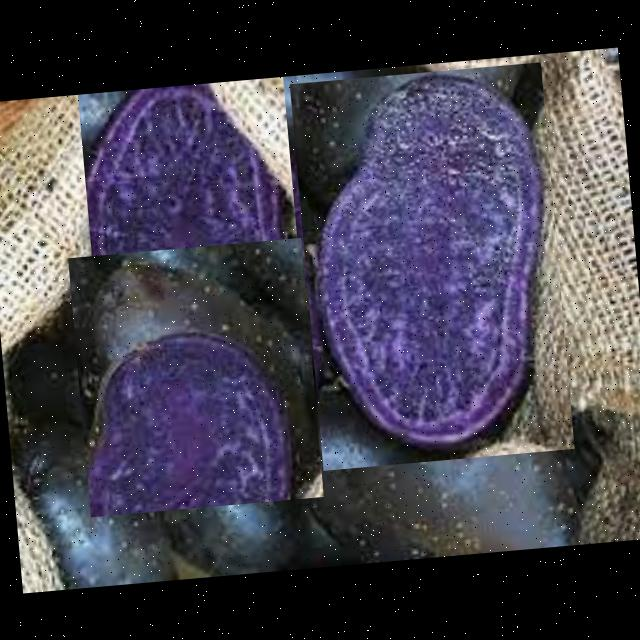Damaged potato: (284, 332, 638, 568), (68, 238, 324, 516)
Defected potato: (289, 62, 574, 470), (78, 76, 312, 435)
